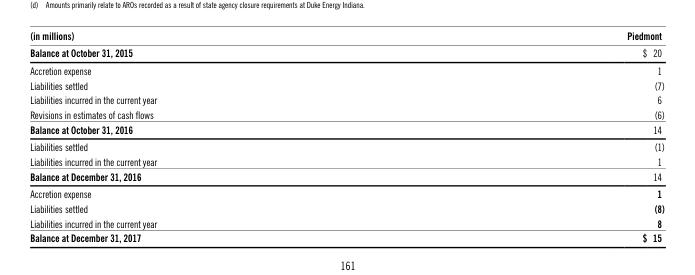table: (29, 28, 663, 243)
table column: (29, 28, 391, 243), (391, 28, 663, 243)
table column header: (29, 28, 663, 43)
table row: (29, 43, 663, 61), (29, 61, 663, 77), (29, 121, 663, 137), (29, 137, 663, 153), (29, 168, 663, 184), (29, 184, 663, 200), (29, 28, 663, 43), (29, 77, 663, 92), (29, 106, 663, 121), (29, 153, 663, 168), (29, 200, 663, 215), (29, 215, 663, 230), (29, 92, 663, 106), (29, 230, 663, 243)
